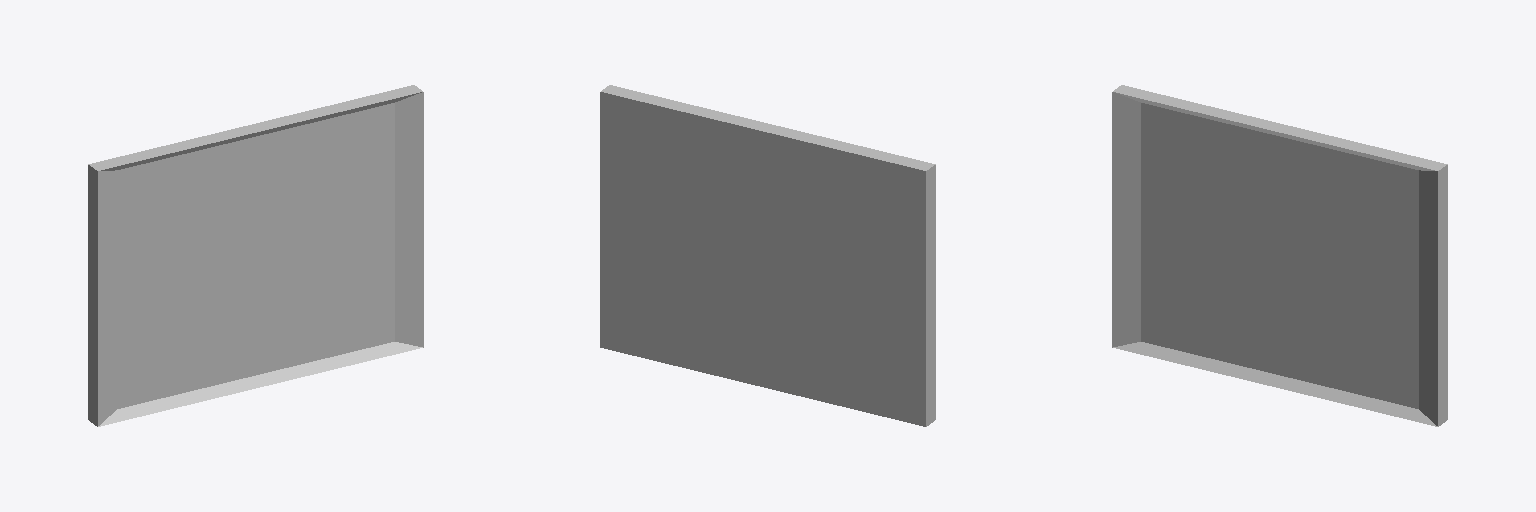
The model's file is oldpainting6.obj.
The picture shows the model from 3 angles: view 1: azimuth 30°, elevation 25°; view 2: azimuth 150°, elevation 25°; view 3: azimuth 330°, elevation 25°; orthographic projection.
Parts seen in each view (by area): view 1: paintings; view 2: paintings; view 3: paintings.
Boxes of the visible parts, <box> form: paintings: <box>88,85,423,426</box>; paintings: <box>600,85,935,426</box>; paintings: <box>1112,85,1447,426</box>.
Bounding box in the file's own units: 40 × 30 × 2.